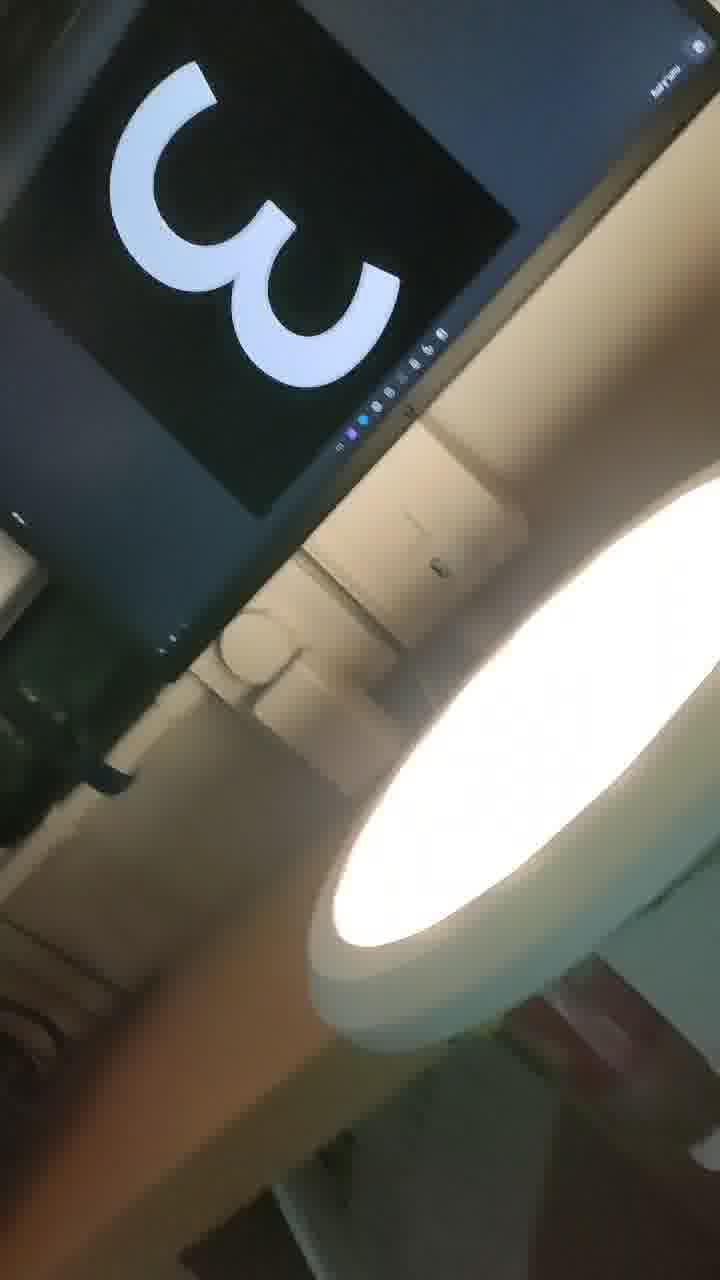three: (73, 31, 447, 444)
